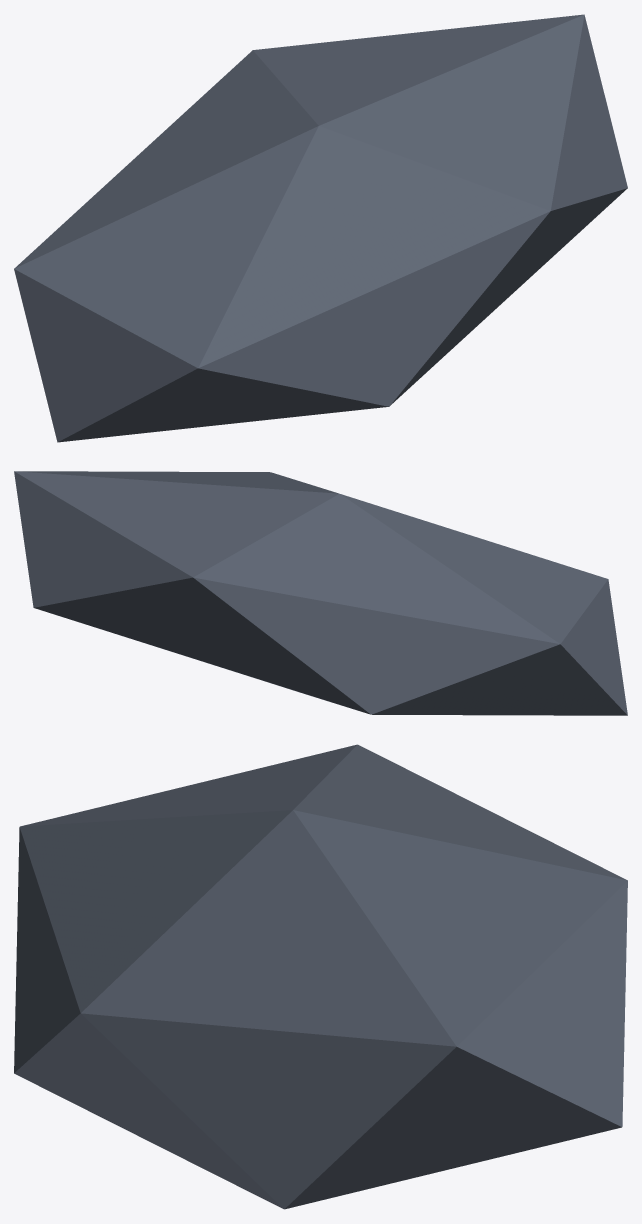
Rendered from EXTC_Rubble_04.glb.
The picture shows the model from 3 angles, top to bottom: view 1: azimuth 30°, elevation 25°; view 2: azimuth 150°, elevation 25°; view 3: azimuth 270°, elevation 25°; orthographic projection. The views are drawn at different scales.
Visible parts, largest first — view 1: EXTC_Rubble_04; view 2: EXTC_Rubble_04; view 3: EXTC_Rubble_04.
Part boxes in pixels (bbox=[...]): EXTC_Rubble_04: bbox=[14, 14, 627, 442]; EXTC_Rubble_04: bbox=[14, 471, 627, 715]; EXTC_Rubble_04: bbox=[14, 744, 627, 1209].
Size of the model in its own units: 1.14 by 0.3927 by 0.6884.
